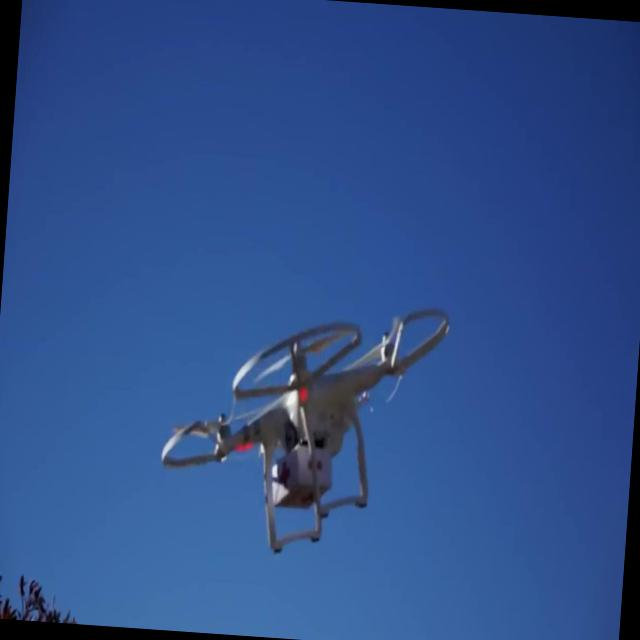drone: (153, 290, 454, 564)
